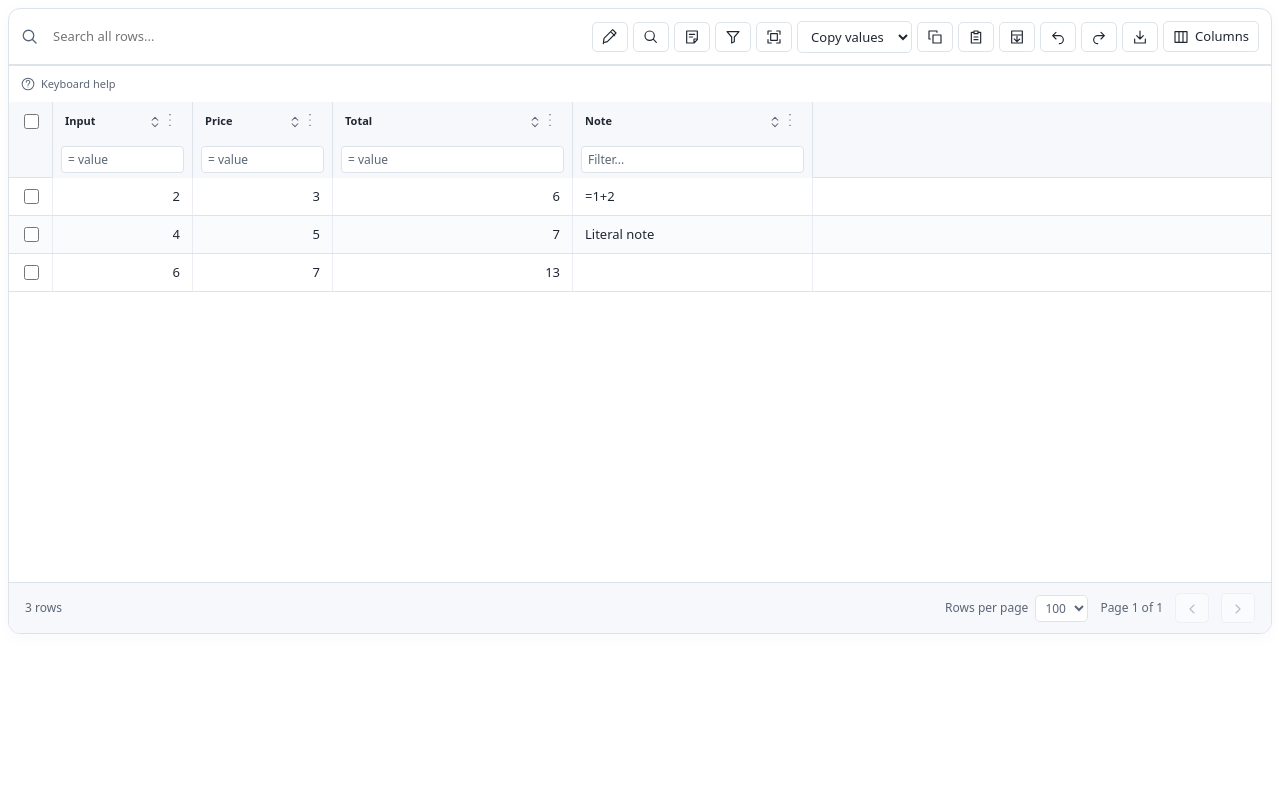
Test: registered formula model grid integration › retains rejected raw drafts through Enter and Tab, then replaces a formula with a literal
The image size is (1280, 800).
Double-click the cell "6" next to "=1+2" at (453, 196), box [333,178,573,215]
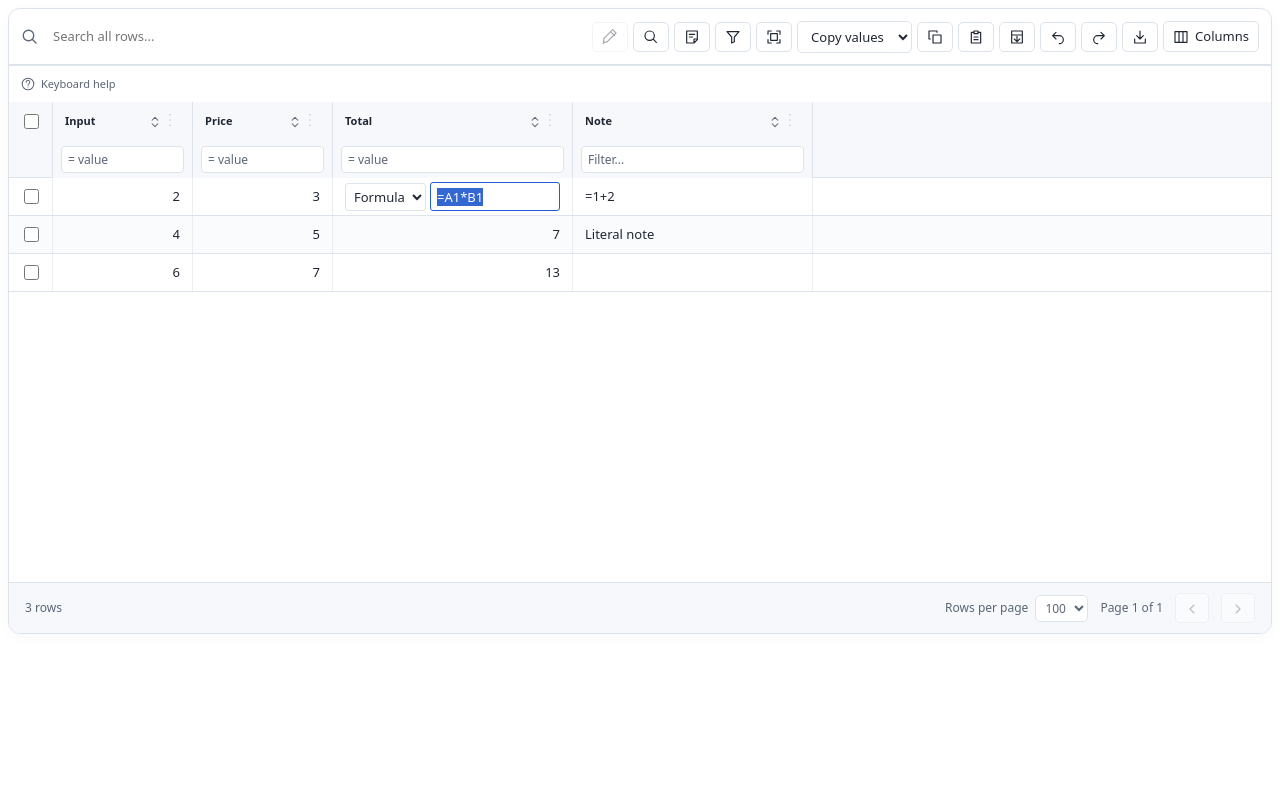
Replace the text in the field named "Edit Total row a" with "=SUM(" at (495, 196), box [430,182,560,211]
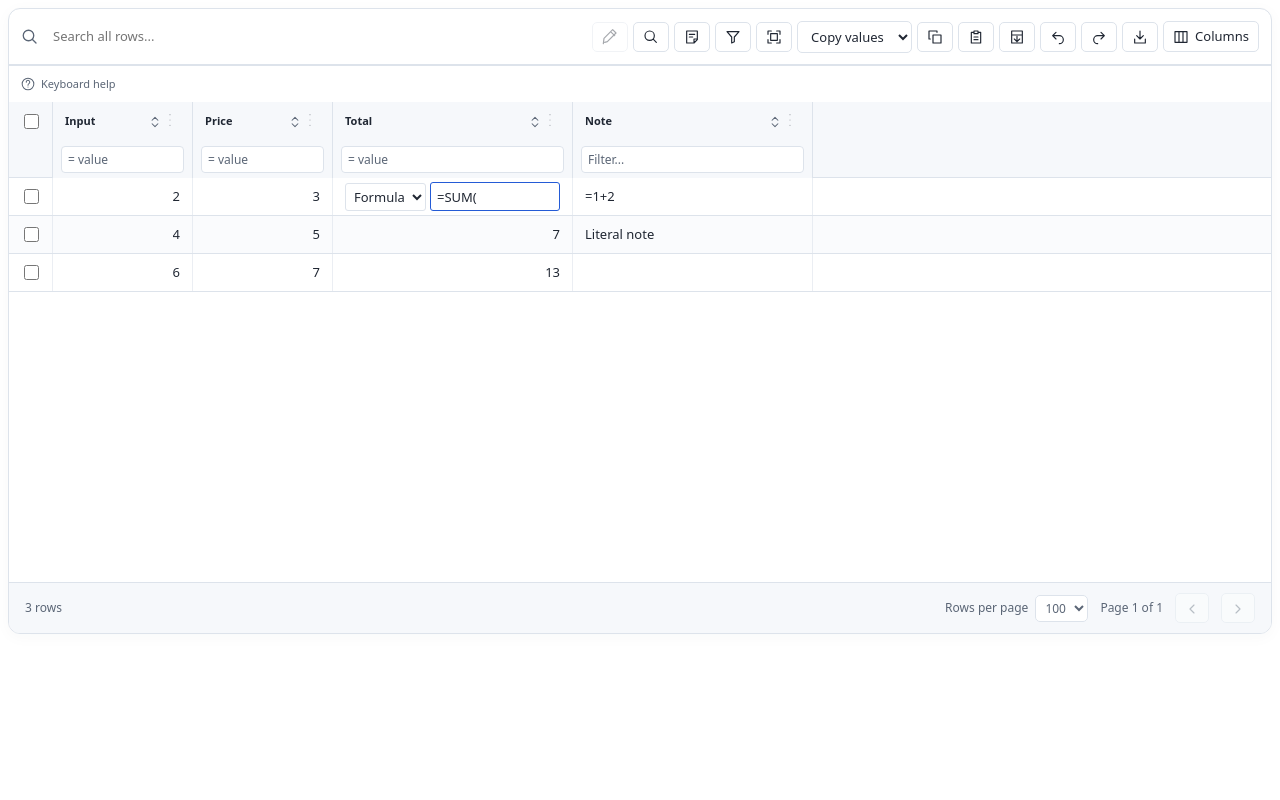
Press Enter in the field named "Edit Total row a", box [430,182,560,211]
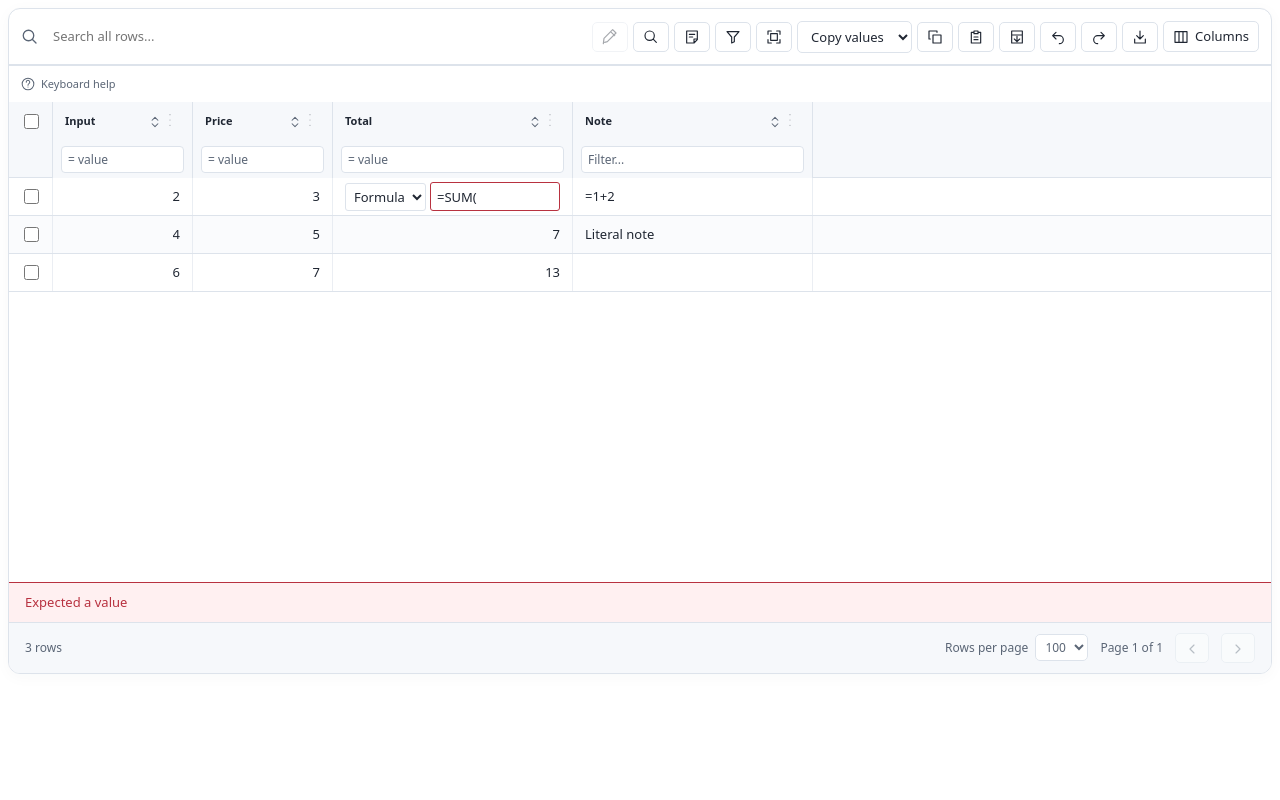
Check: the message "Expected a value" is shown, box [9,582,1271,622]
Press Tab in the field named "Edit Total row a", box [430,182,560,211]
Select "Literal" in the dropdown named "Cell input mode" at (386, 196), box [345,182,426,210]
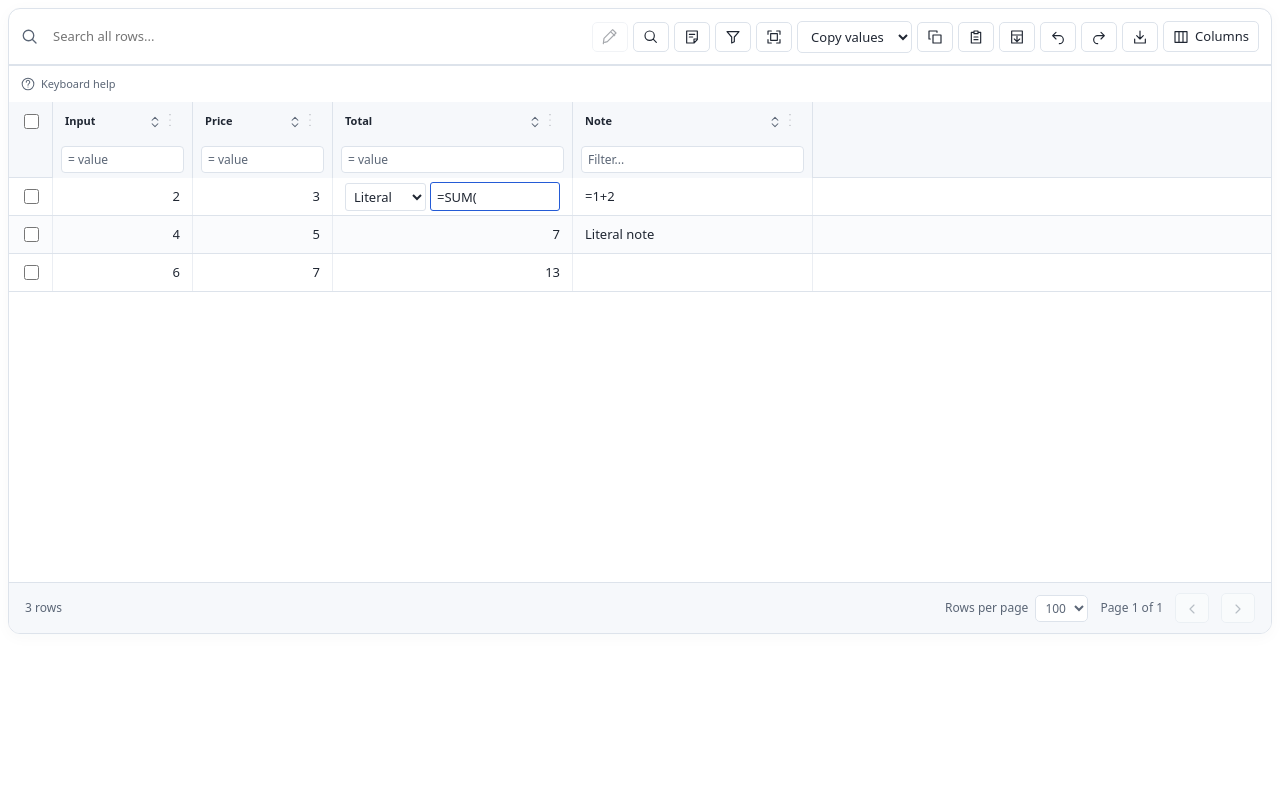
Replace the text in the field named "Edit Total row a" with "12" at (495, 196), box [430,182,560,211]
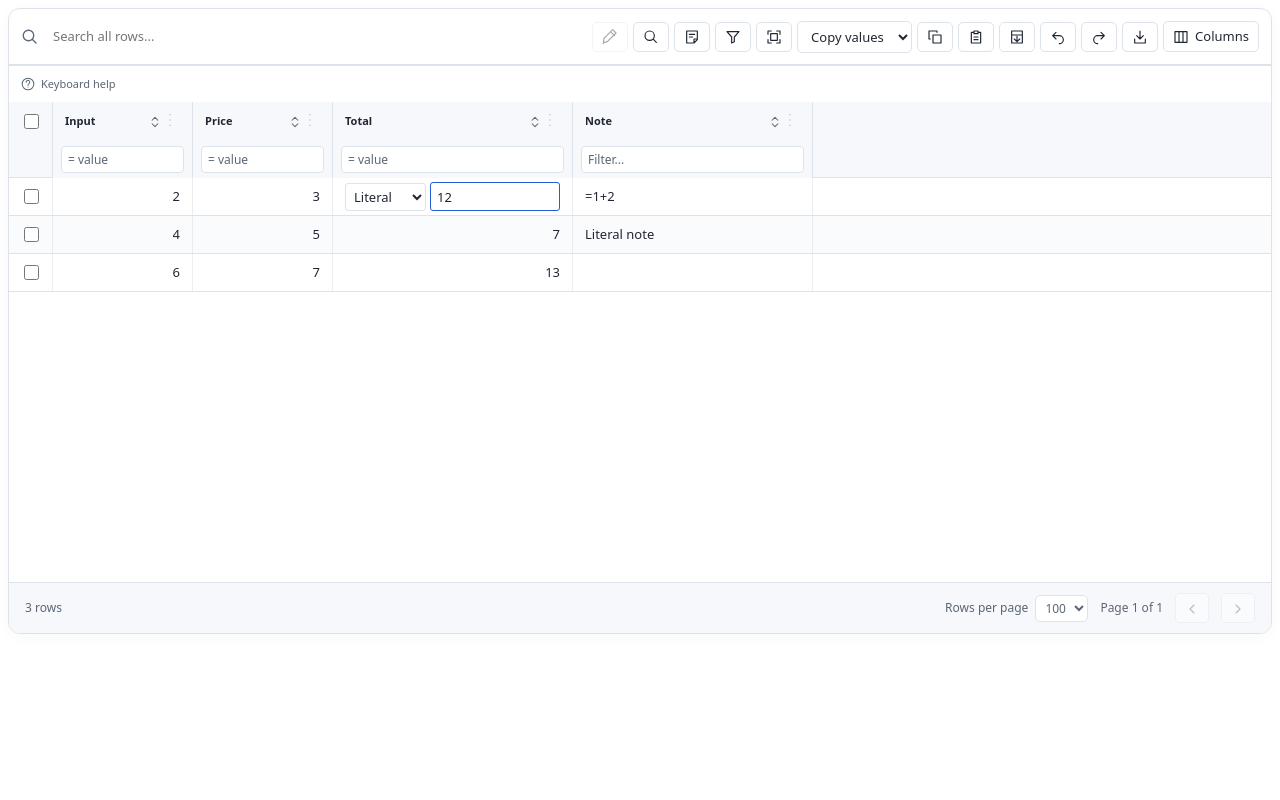
Press Tab in the field named "Edit Total row a", box [430,182,560,211]
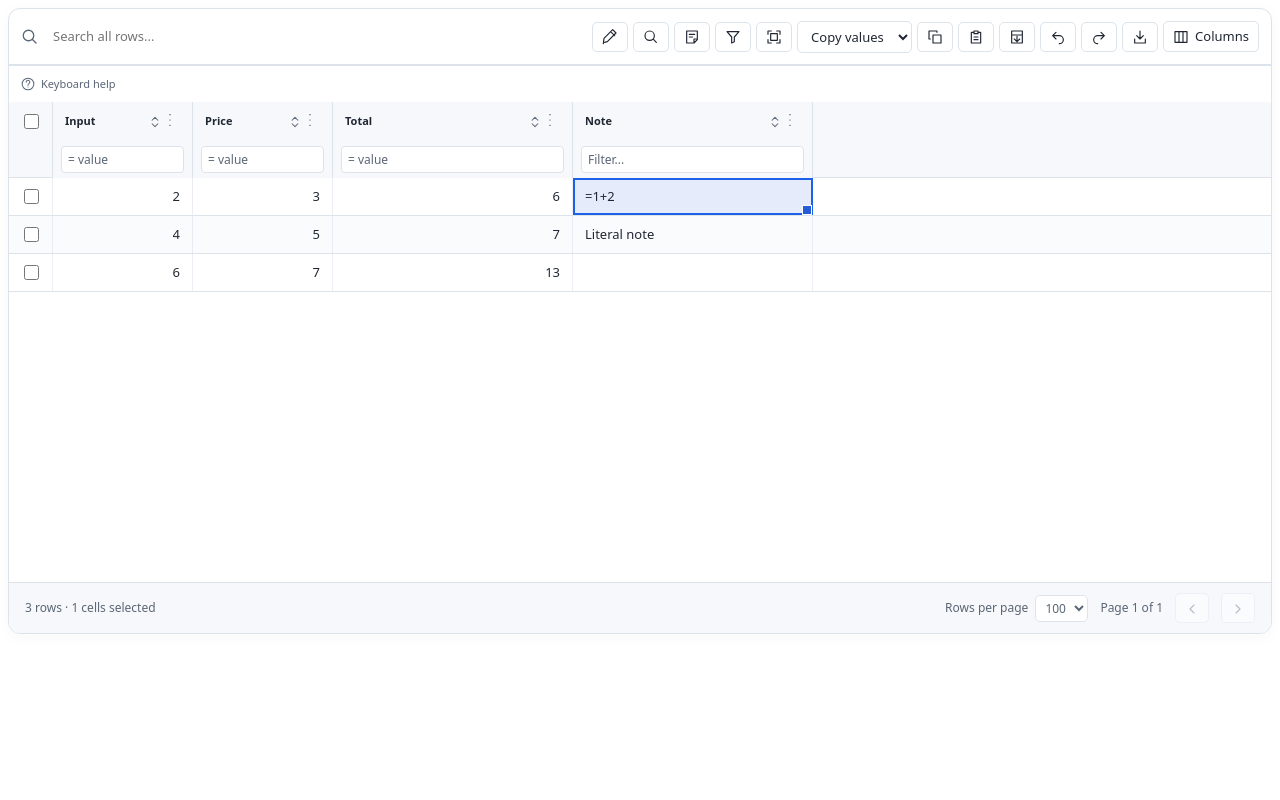
Check: the cell "6" next to "=1+2" is shown, box [553,187,560,205]
